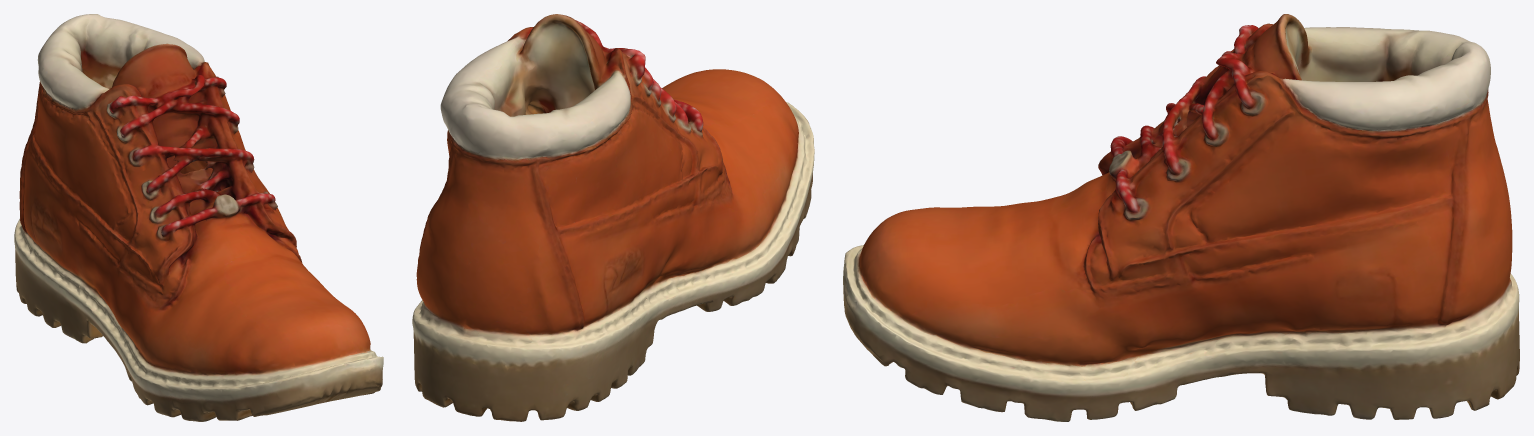
File: Timberland_Womens_Waterproof_Nellie_Chukka_Double.glb
3 renders of one model, left to right at view 1: azimuth 30°, elevation 25°; view 2: azimuth 150°, elevation 25°; view 3: azimuth 270°, elevation 25°, orthographic. The views are drawn at different scales.
Visible parts, largest first — view 1: geometry_0; view 2: geometry_0; view 3: geometry_0.
Part boxes in pixels (<box>): geometry_0: <box>14,14,383,421</box>; geometry_0: <box>412,14,814,421</box>; geometry_0: <box>843,14,1519,421</box>.
Bounding box in the file's own units: 0.3854 × 0.5929 × 1.
Materials: 1 (1 with a texture image).
